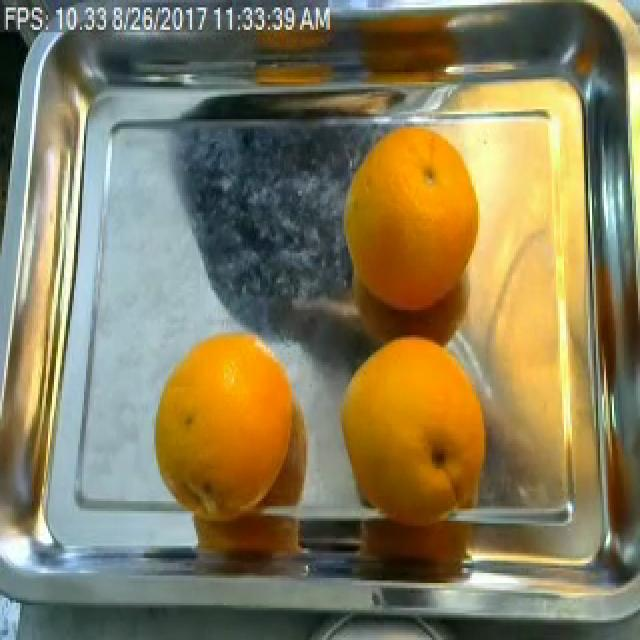Fruit: (324, 114, 502, 333), (140, 310, 314, 526)
